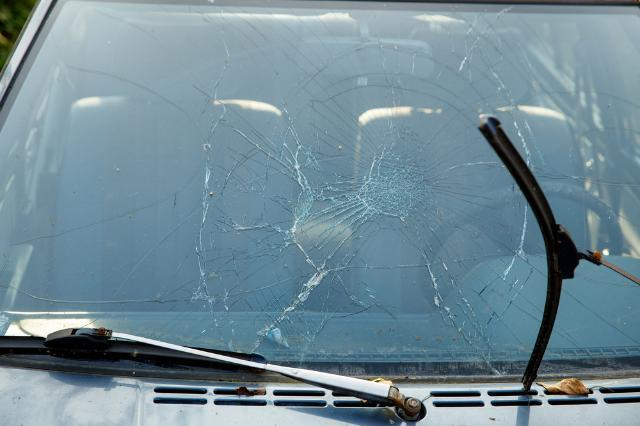glass shatter: (0, 0, 640, 376)
